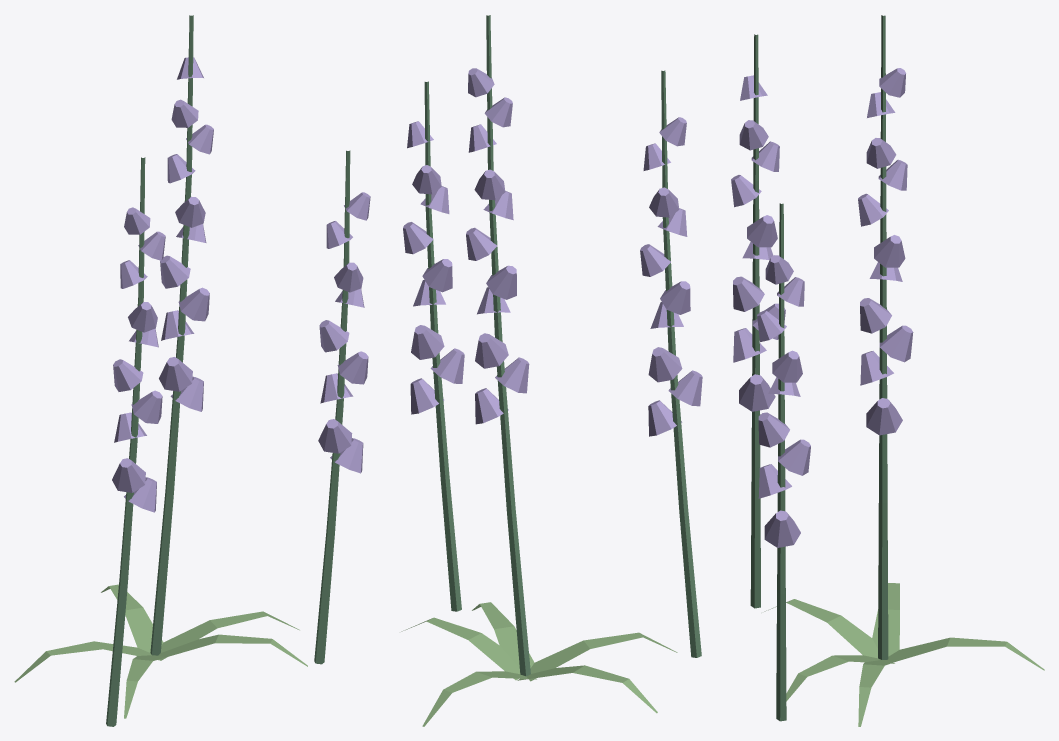
File: dense-temperate-forest-flora-foxglove-clump-51c30b82__28379.glb
The picture shows the model from 3 angles, left to right: view 1: azimuth 30°, elevation 25°; view 2: azimuth 150°, elevation 25°; view 3: azimuth 270°, elevation 25°; orthographic projection. The views are drawn at different scales.
Parts seen in each view (by area): view 1: foxglove-clump; view 2: foxglove-clump; view 3: foxglove-clump.
Part boxes in pixels (x1,y1,x2,y2): foxglove-clump: [14, 15, 370, 726]; foxglove-clump: [401, 15, 702, 726]; foxglove-clump: [731, 15, 1044, 726].
Size of the model in its own units: 0.5668 by 1.15 by 0.493.
